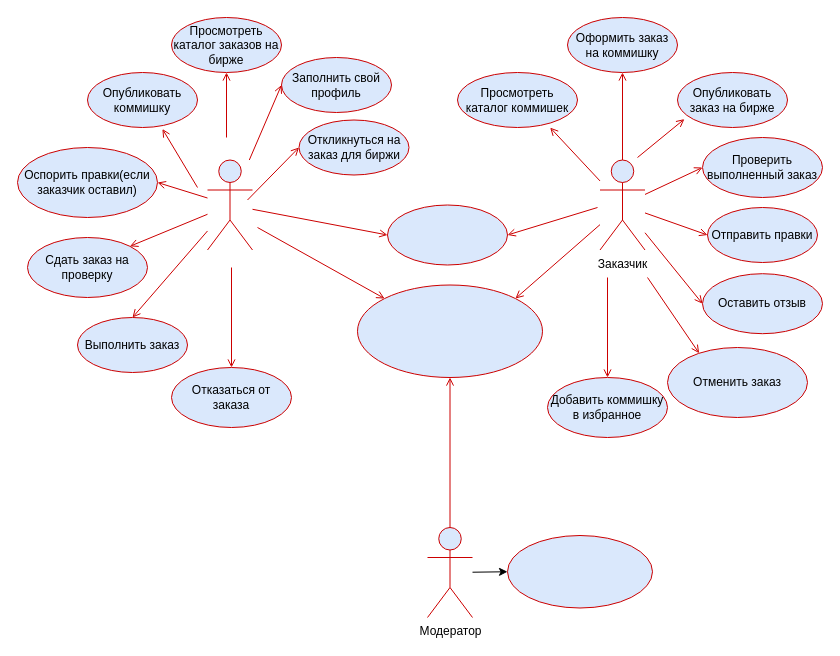
This 840x656 diagram has some shape labels left out. Each missing label, with the box of its shape:
Обсудить детали заказа: (386, 204, 508, 265)
Принять решение по отмене заказа: (506, 534, 652, 608)
Учавствовать в оспаривании правок по заказу(при необходимости): (356, 284, 542, 378)
Художник: (206, 159, 252, 250)
